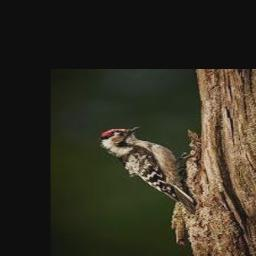Woodpecker: (99, 125, 195, 213)
